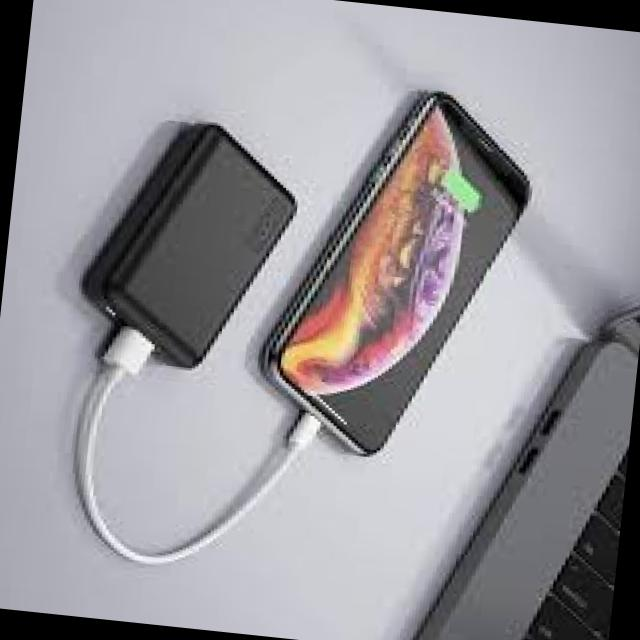portable-charger: (72, 108, 309, 382)
